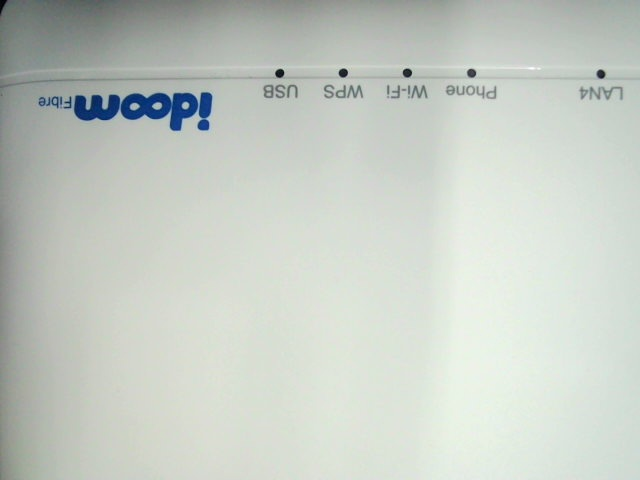BB_idoom: (34, 88, 219, 136)
